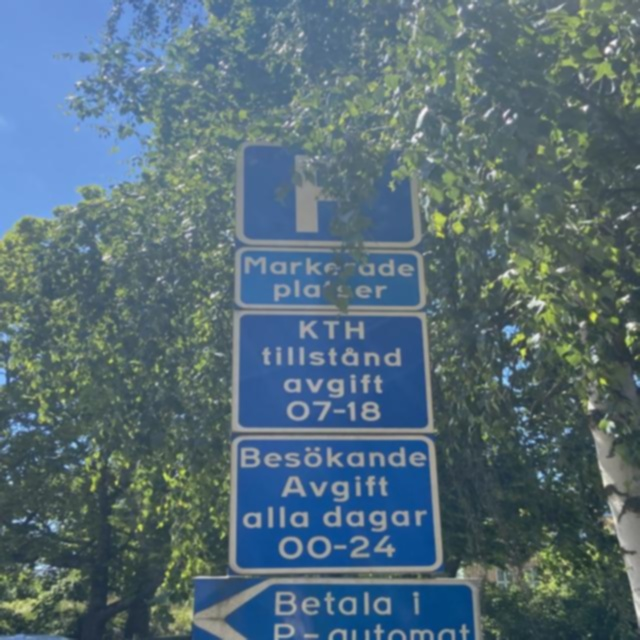P-skylt: (234, 137, 428, 252)
